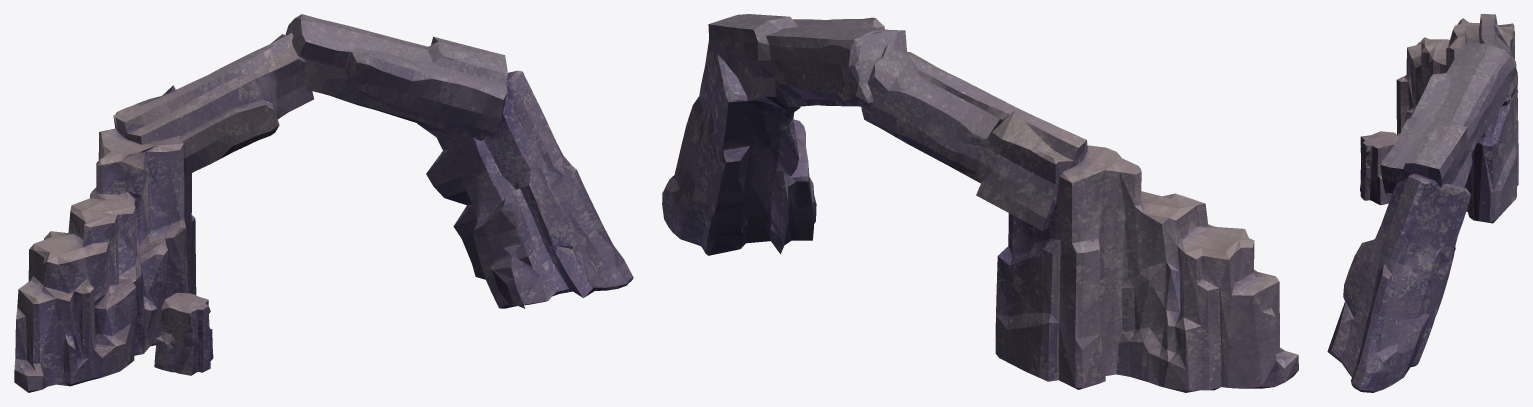
Rendered from Arch.fbx.
3 views of the same model, side by side, from view 1: azimuth 30°, elevation 25°; view 2: azimuth 150°, elevation 25°; view 3: azimuth 270°, elevation 25° (orthographic). The views are drawn at different scales.
Parts seen in each view (by area): view 1: Arch; view 2: Arch; view 3: Arch.
Part boxes in pixels (<box>): Arch: <box>14,14,633,392</box>; Arch: <box>662,14,1298,392</box>; Arch: <box>1327,14,1518,392</box>.
Bounding box in the file's own units: 413 × 187 × 134.
